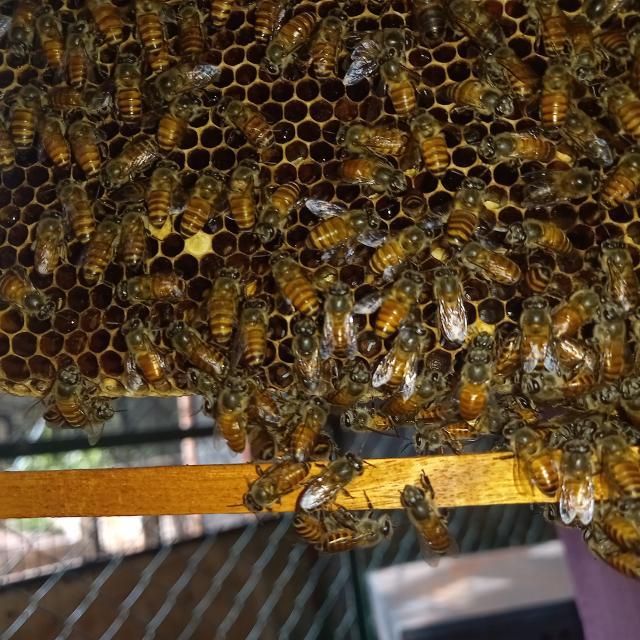honeybee: (397, 476, 468, 568), (304, 442, 368, 523), (248, 453, 314, 525), (499, 418, 554, 501), (303, 204, 386, 254), (595, 228, 640, 320), (268, 250, 322, 326), (491, 212, 586, 252), (165, 316, 238, 368), (82, 207, 126, 291), (220, 369, 258, 464), (474, 129, 566, 168), (484, 40, 534, 109), (323, 277, 365, 359), (446, 78, 528, 120), (372, 222, 448, 267), (0, 264, 54, 327), (413, 416, 485, 463), (558, 437, 596, 526), (332, 516, 407, 561), (446, 171, 488, 251), (408, 104, 456, 174), (116, 318, 166, 385), (375, 271, 425, 337), (31, 198, 70, 280), (329, 156, 412, 194), (288, 314, 325, 399), (375, 45, 419, 116), (598, 304, 633, 393), (588, 527, 640, 586), (220, 97, 278, 149), (597, 430, 640, 500), (149, 92, 196, 156), (379, 319, 418, 396), (261, 170, 298, 250), (177, 164, 217, 237), (312, 10, 357, 74), (334, 402, 416, 437), (41, 84, 116, 122), (323, 123, 409, 156), (270, 12, 313, 78), (524, 169, 605, 204), (208, 262, 242, 344), (460, 240, 513, 292), (393, 364, 447, 415), (515, 369, 600, 401), (118, 196, 153, 272), (113, 51, 146, 131), (565, 107, 610, 165), (120, 271, 192, 307), (599, 76, 640, 138), (436, 265, 468, 344), (591, 494, 640, 545), (59, 170, 95, 237), (226, 155, 254, 240), (17, 72, 46, 154), (148, 156, 179, 232), (532, 0, 571, 59), (289, 507, 332, 560), (240, 295, 271, 368), (108, 139, 158, 184), (36, 0, 66, 74), (155, 64, 228, 94), (550, 284, 591, 336), (336, 357, 372, 416), (520, 291, 547, 369), (606, 148, 640, 209), (5, 0, 38, 62), (57, 361, 84, 436), (66, 24, 96, 87), (462, 350, 488, 422), (70, 118, 102, 175), (298, 396, 328, 456), (416, 0, 454, 46), (488, 326, 517, 384), (249, 0, 284, 48), (42, 115, 70, 173), (177, 0, 205, 56), (99, 0, 132, 47), (544, 60, 568, 124), (138, 0, 165, 53), (0, 106, 18, 180), (520, 260, 555, 296), (601, 31, 634, 63), (96, 388, 122, 424), (209, 0, 231, 37), (43, 402, 63, 442)
